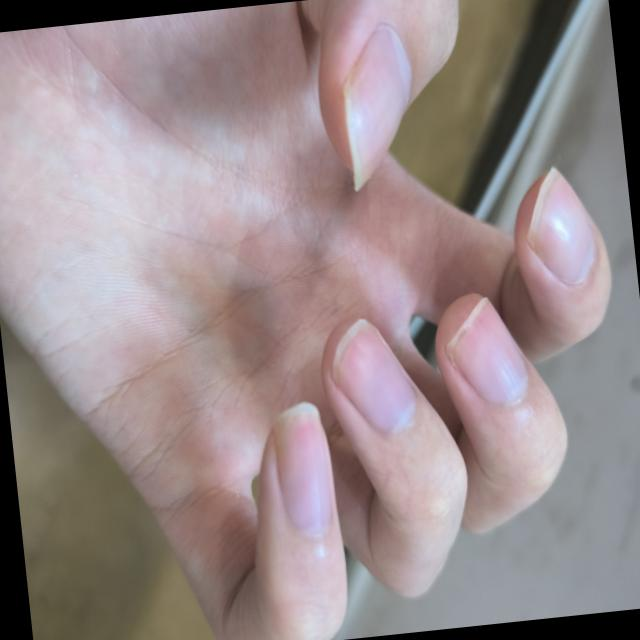Nail: (343, 25, 409, 192), (331, 320, 414, 435), (446, 298, 526, 403), (527, 167, 593, 286), (272, 404, 330, 538)
